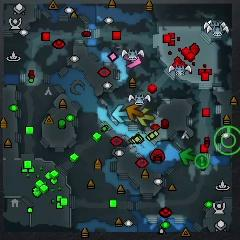Other: (194, 154, 210, 169)
x1: (122, 53, 142, 68)
x2: (137, 108, 154, 126)
x3: (112, 104, 127, 123)
x4: (179, 147, 196, 166)
x5: (126, 103, 142, 120)
